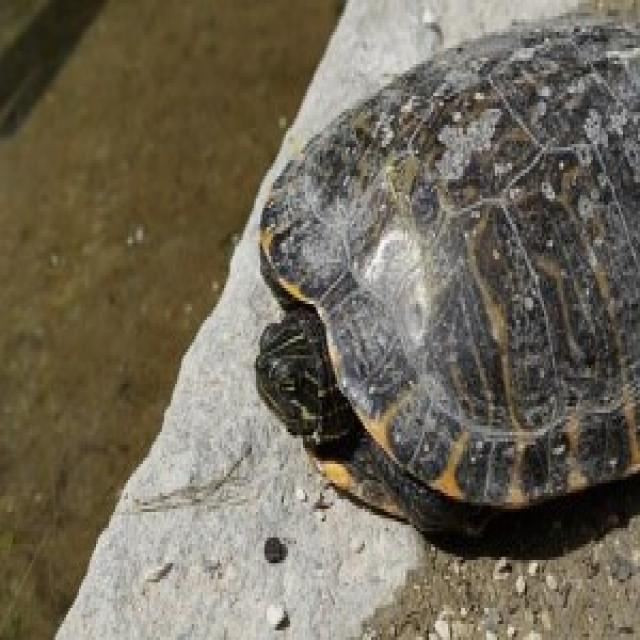Sea turtle: (258, 81, 640, 525)
